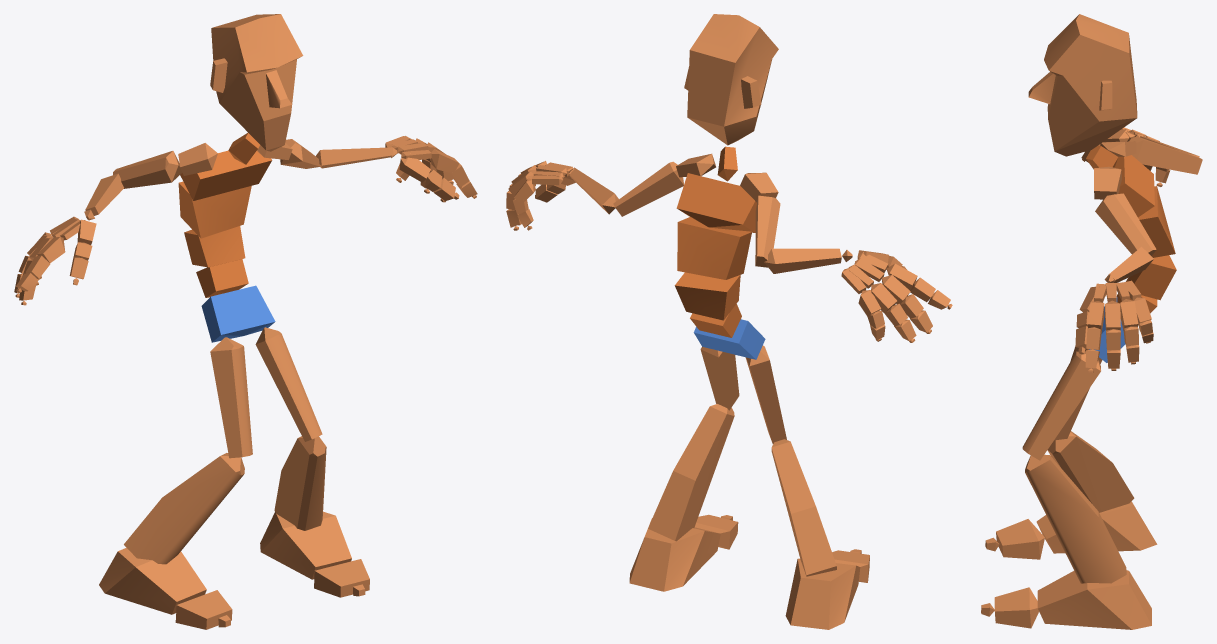
Rendered from personaje324.obj.
3 renders of one model, left to right at view 1: azimuth 30°, elevation 25°; view 2: azimuth 150°, elevation 25°; view 3: azimuth 270°, elevation 25°, orthographic. The views are drawn at different scales.
Parts seen in each view (by area): view 1: BOPED_Head, BOPED_R_leg, BOPED_R_foot, BOPED_R_foot01, BOPED_L_leg, BOPED_R_legup, BOPED_L_legup, Bone01, Bone04, Bone05, Bone03, BOPED_R_arm_upper (+7 smaller); view 2: BOPED_Head, BOPED_L_leg, BOPED_R_foot01, BOPED_R_leg, BOPED_R_foot, Bone04, Bone05, Bone03, BOPED_R_legup, BOPED_L_arm_upper, BOPED_L_legup, BOPED_R_arm_fore (+8 smaller); view 3: BOPED_Head, BOPED_L_leg, BOPED_R_foot01, BOPED_R_leg, BOPED_L_legup, BOPED_R_foot, BOPED_L_arm_upper, Bone05, BOPED_R_foot_toe01, BOPED_R_arm_upper, BOPED_R_foot_toe04, Bone03 (+12 smaller).
Boxes of the visible parts, x1=… form: BOPED_Head: x1=210, y1=14, x2=303, y2=151; BOPED_R_leg: x1=124, y1=453, x2=244, y2=564; BOPED_R_foot: x1=99, y1=548, x2=206, y2=614; BOPED_R_foot01: x1=260, y1=511, x2=351, y2=579; BOPED_L_leg: x1=274, y1=436, x2=326, y2=530; BOPED_R_legup: x1=210, y1=337, x2=252, y2=458; BOPED_L_legup: x1=255, y1=327, x2=322, y2=441; Bone01: x1=201, y1=285, x2=275, y2=342; Bone04: x1=178, y1=181, x2=251, y2=238; Bone05: x1=180, y1=150, x2=272, y2=200; Bone03: x1=184, y1=226, x2=245, y2=267; BOPED_R_arm_upper: x1=113, y1=151, x2=182, y2=188; BOPED_Head: x1=684, y1=14, x2=778, y2=145; BOPED_L_leg: x1=648, y1=404, x2=734, y2=541; BOPED_R_foot01: x1=629, y1=518, x2=720, y2=591; BOPED_R_leg: x1=771, y1=439, x2=836, y2=576; BOPED_R_foot: x1=785, y1=558, x2=860, y2=629; Bone04: x1=677, y1=217, x2=751, y2=279; Bone05: x1=676, y1=173, x2=756, y2=232; Bone03: x1=674, y1=272, x2=740, y2=320; BOPED_R_legup: x1=745, y1=345, x2=786, y2=443; BOPED_L_arm_upper: x1=613, y1=161, x2=683, y2=216; BOPED_L_legup: x1=700, y1=346, x2=739, y2=410; BOPED_R_arm_fore: x1=764, y1=248, x2=841, y2=273; BOPED_Head: x1=1028, y1=14, x2=1137, y2=156; BOPED_L_leg: x1=1025, y1=454, x2=1126, y2=583; BOPED_R_foot01: x1=1037, y1=570, x2=1151, y2=629; BOPED_R_leg: x1=1047, y1=431, x2=1134, y2=512; BOPED_L_legup: x1=1022, y1=351, x2=1100, y2=460; BOPED_R_foot: x1=1036, y1=501, x2=1157, y2=553; BOPED_L_arm_upper: x1=1095, y1=193, x2=1156, y2=255; Bone05: x1=1114, y1=155, x2=1154, y2=217; BOPED_R_foot_toe01: x1=996, y1=519, x2=1044, y2=559; BOPED_R_arm_upper: x1=1129, y1=136, x2=1202, y2=174; BOPED_R_foot_toe04: x1=994, y1=587, x2=1038, y2=628; Bone03: x1=1128, y1=255, x2=1176, y2=300.
Size of the model in its own units: 153 by 181 by 63.99.
